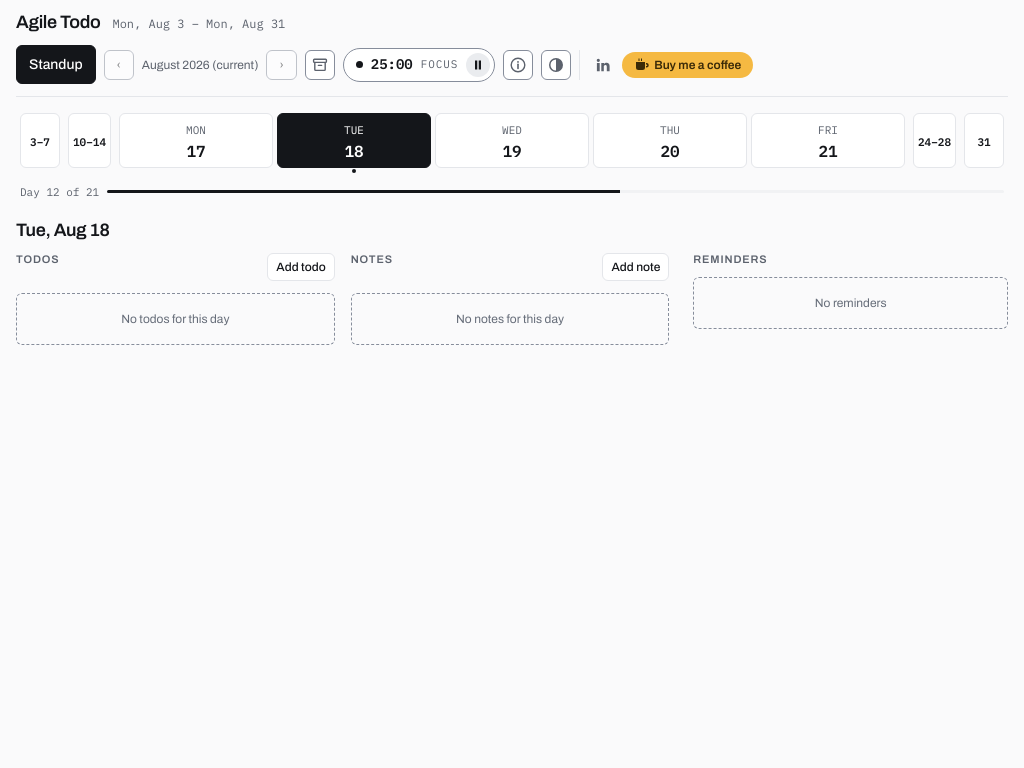
Test case: pomodoro › Stop clears the run and returns the widget to idle
Click the button named "Pomodoro settings": (392, 64) [371, 54, 413, 75]
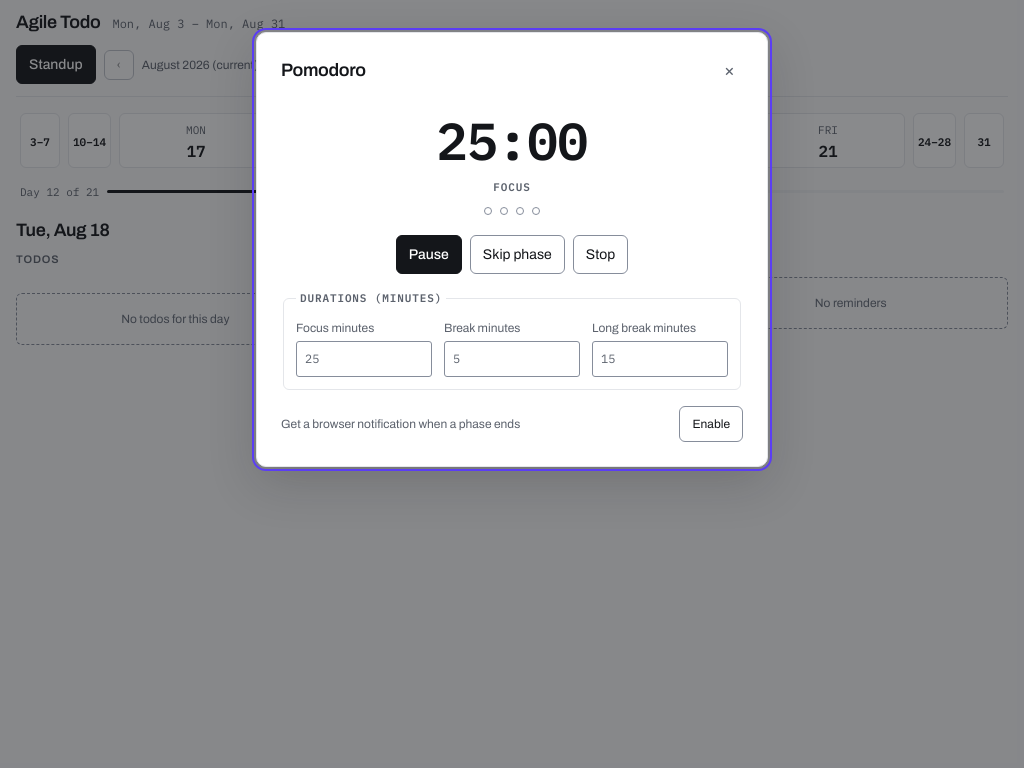
Click the button "Stop": (600, 255) [573, 235, 628, 274]
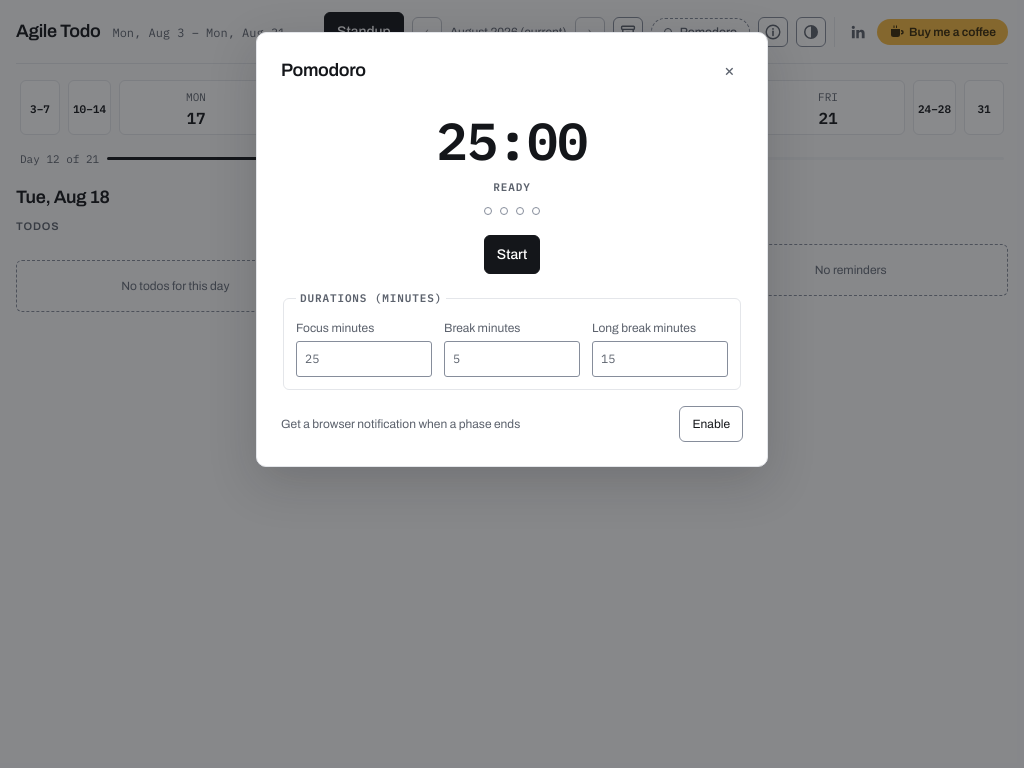
Expected: the button with aria-label "Pomodoro timer" is shown, [651, 18, 750, 46]
